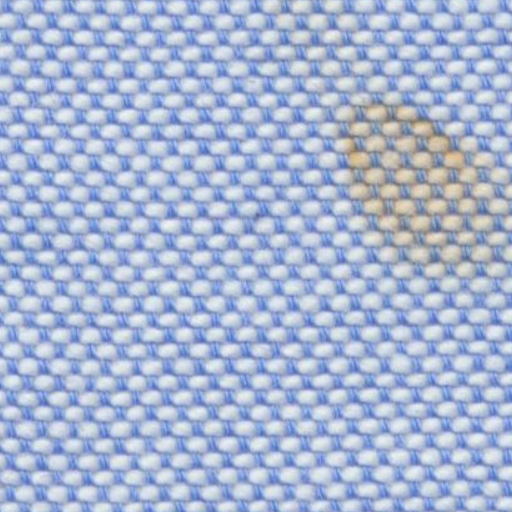WuZi: (321, 82, 504, 286)
